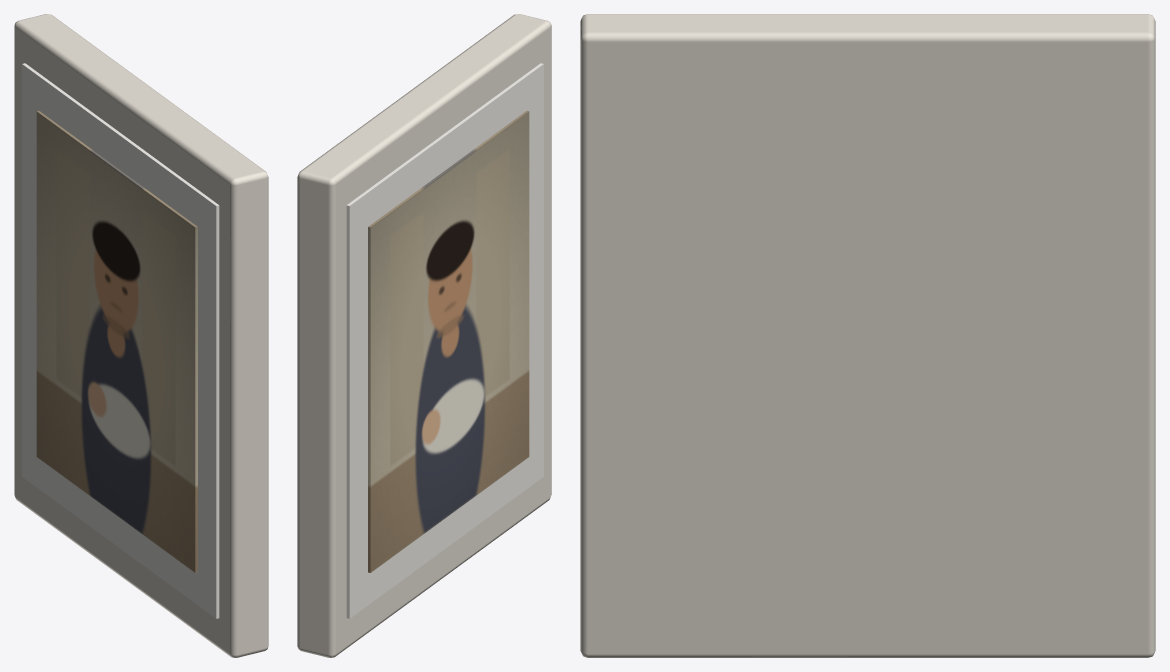
Rendered from escena.casa.foto_ahijado.fbx.
The picture shows the model from 3 angles, left to right: view 1: azimuth 30°, elevation 25°; view 2: azimuth 150°, elevation 25°; view 3: azimuth 270°, elevation 25°; orthographic projection. The views are drawn at different scales.
Parts seen in each view (by area): view 1: Foto, Marco, Paspartu; view 2: Foto, Marco, Paspartu; view 3: Marco.
Boxes of the visible parts, x1,y1,x2,y2 form: Foto: (36, 110, 197, 572); Marco: (14, 14, 268, 657); Paspartu: (22, 63, 219, 618); Foto: (368, 110, 529, 572); Marco: (297, 14, 551, 657); Paspartu: (346, 63, 543, 618); Marco: (580, 14, 1155, 657).
Bounding box in the file's own units: 0.035 × 0.36 × 0.3.
3 materials, 1 textured.
